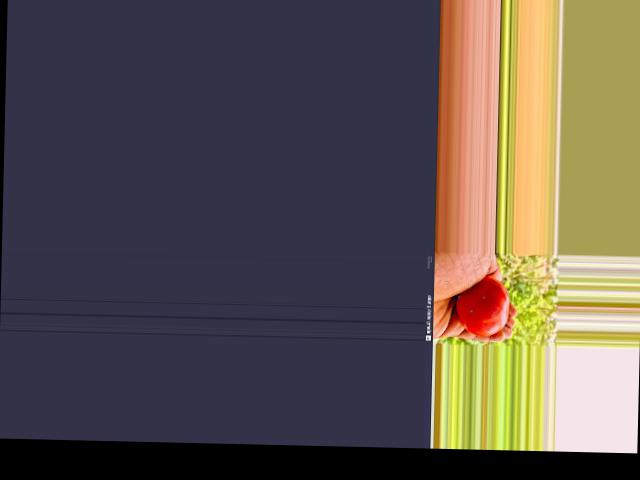tomato: (456, 276, 509, 335)
